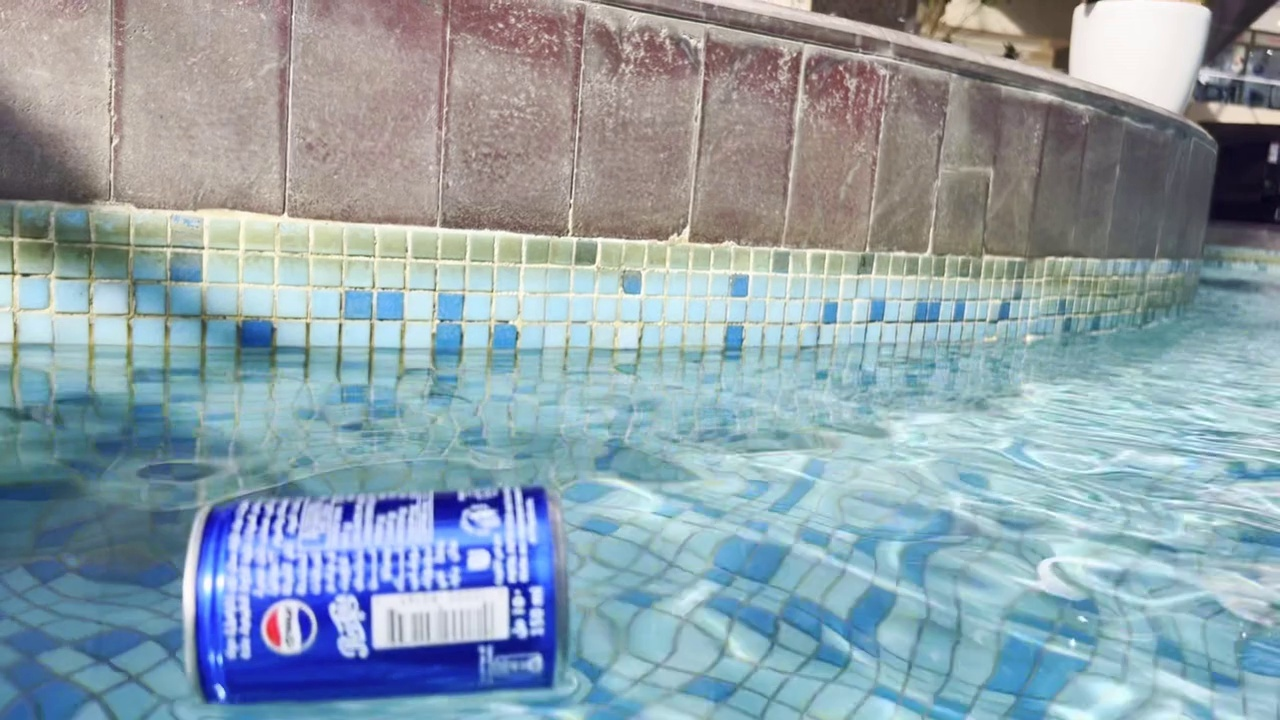debris: (175, 484, 576, 715)
